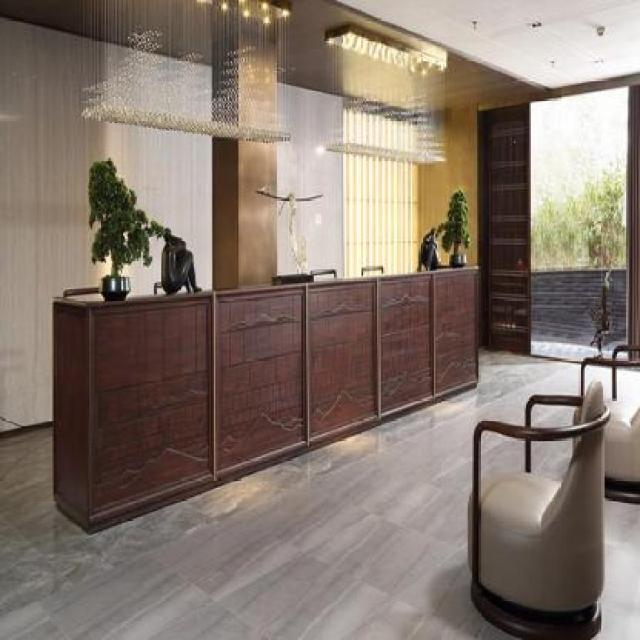frontdesk: (45, 245, 487, 548)
